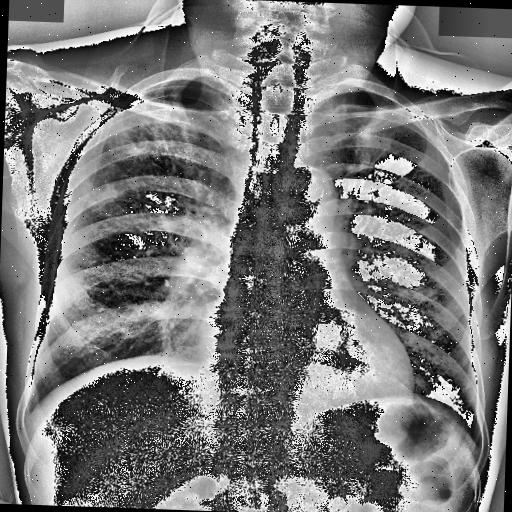13- Pulmonary fibrosis: (78, 92, 208, 218), (98, 96, 212, 210), (332, 100, 372, 148), (354, 122, 376, 146)
5- ILD: (78, 92, 208, 218)
6- Infiltration: (78, 92, 208, 218), (98, 96, 212, 210)
7- Lung Opacity: (112, 90, 204, 191)
